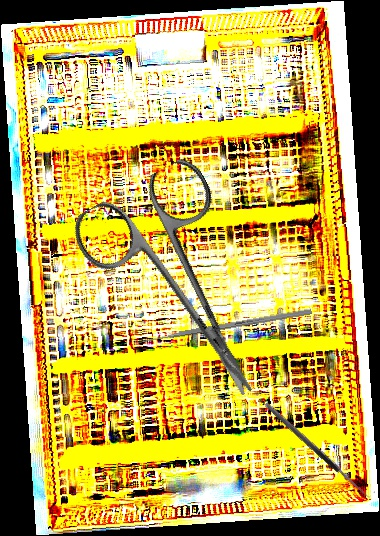Hook Surgical: (263, 396, 377, 501)
Iris Scissors: (65, 153, 306, 430)
Pusher: (131, 308, 313, 346)
